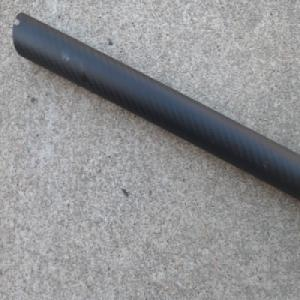LuggagePart: (11, 9, 300, 209)
